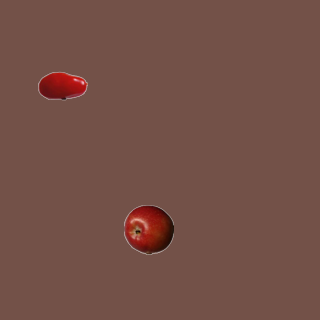Apple Braeburn: (123, 204, 173, 254)
Tomato 2: (37, 60, 87, 110)
